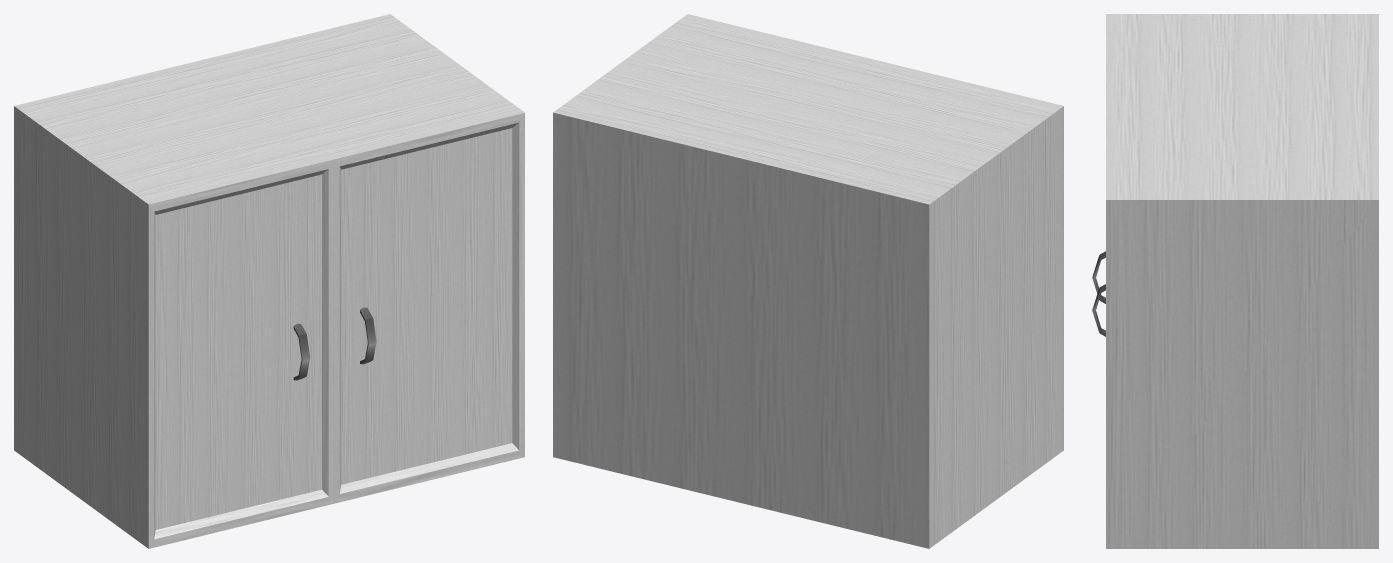
Rendered from Cabinet_B3.FBX.
3 renders of one model, left to right at view 1: azimuth 30°, elevation 25°; view 2: azimuth 150°, elevation 25°; view 3: azimuth 270°, elevation 25°, orthographic.
Visible parts, largest first — view 1: Cabinet_02; view 2: Cabinet_02; view 3: Cabinet_02.
Boxes of the visible parts, left/top/right/bottom form: Cabinet_02: left=14, top=14, right=524, bottom=548; Cabinet_02: left=553, top=14, right=1063, bottom=548; Cabinet_02: left=1092, top=14, right=1378, bottom=548.
Bounding box in the file's own units: 125 × 109 × 81.32.
